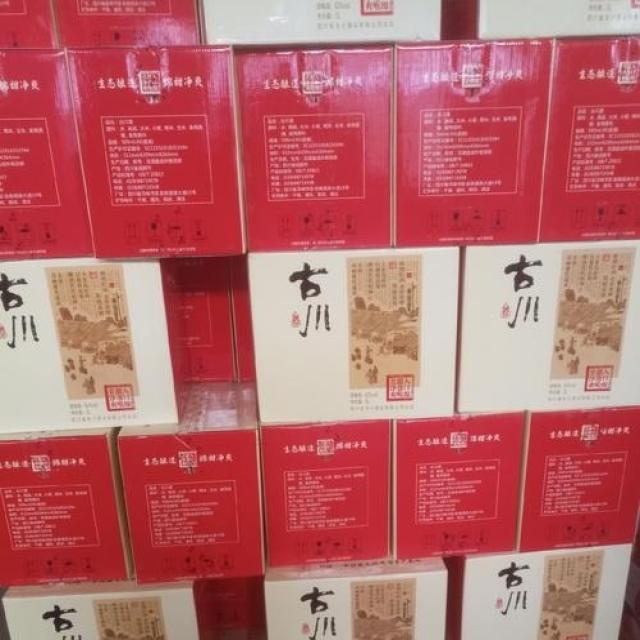box: (64, 45, 246, 261), (246, 247, 460, 422), (236, 44, 395, 255), (393, 39, 554, 246), (456, 239, 639, 412), (0, 261, 177, 434), (115, 382, 265, 585), (0, 428, 131, 590), (258, 418, 389, 578), (540, 35, 639, 244), (391, 410, 526, 560), (0, 50, 94, 261), (517, 405, 639, 554), (442, 544, 634, 638), (263, 556, 449, 639), (2, 580, 219, 639), (157, 256, 237, 383), (200, 1, 440, 43), (441, 1, 639, 42), (53, 1, 204, 49), (204, 577, 268, 638), (228, 255, 255, 382), (0, 2, 61, 52)
